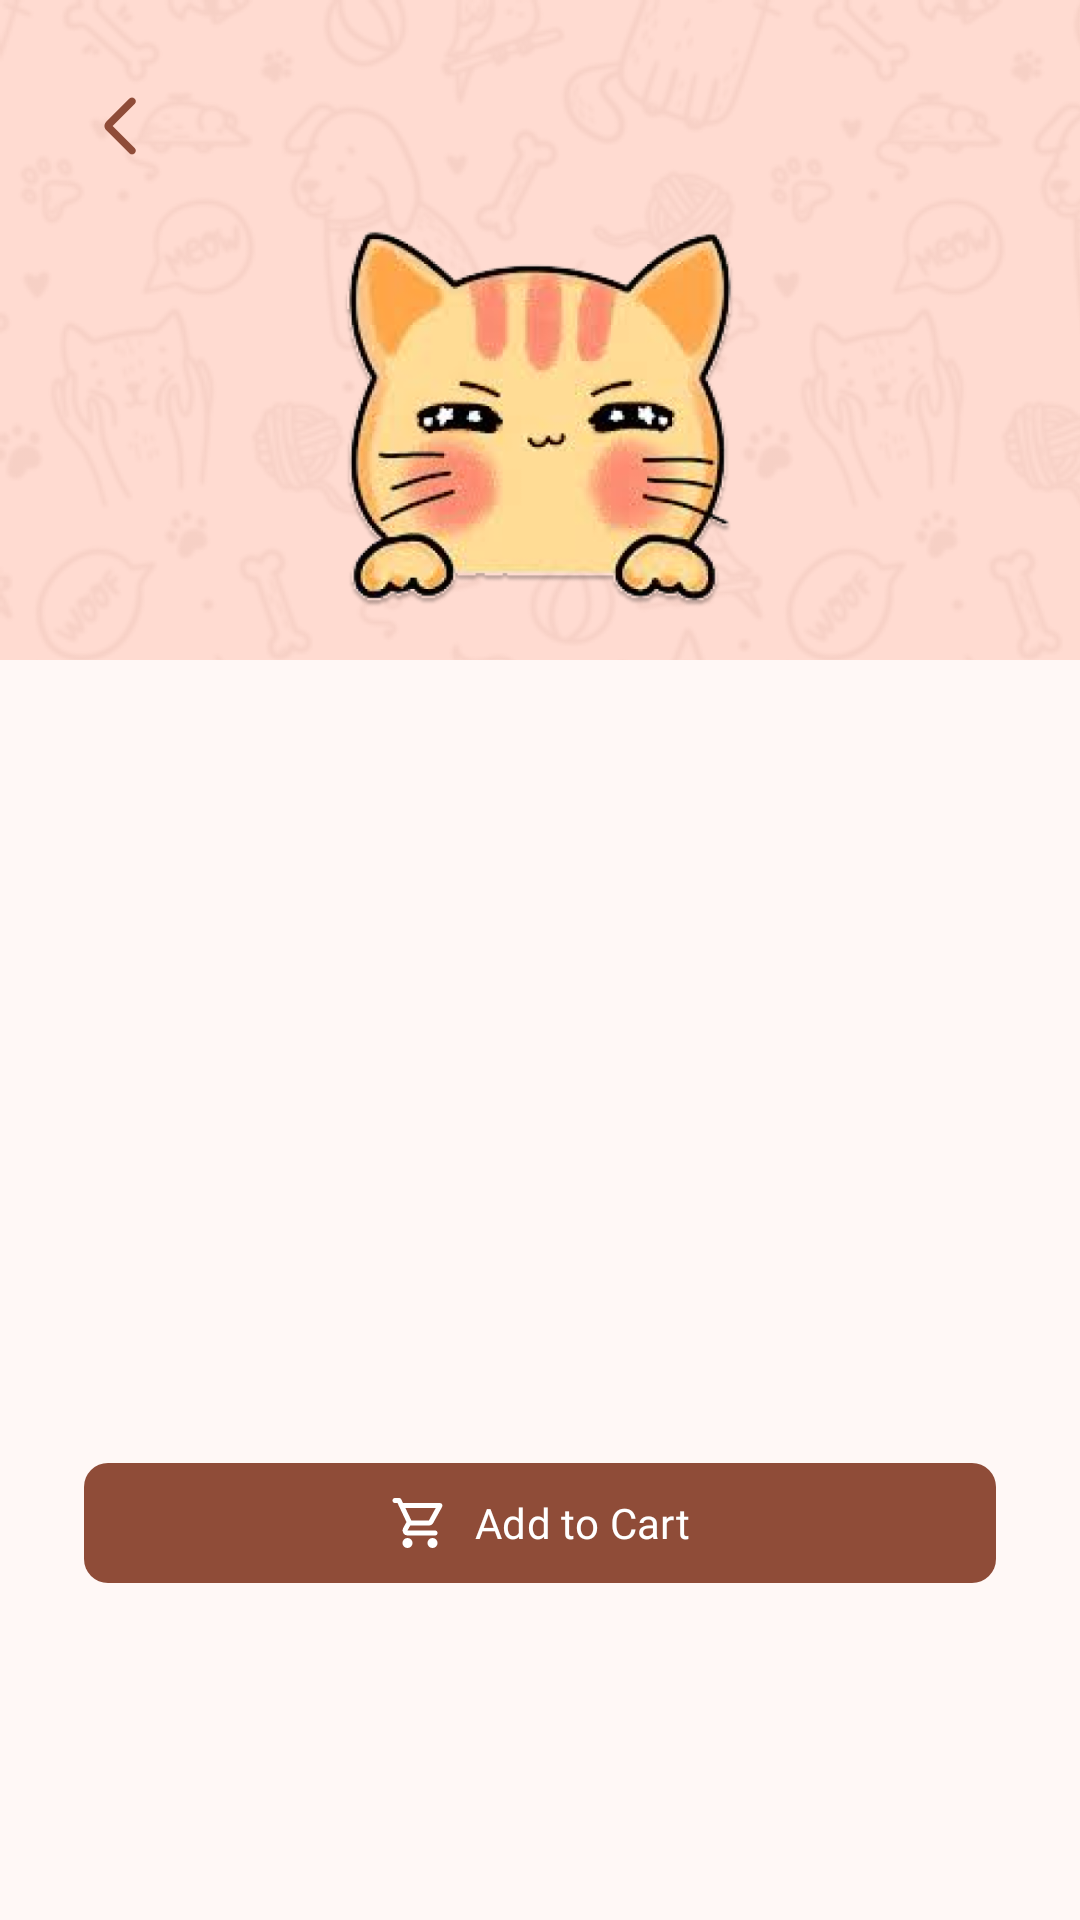

Icons on this 1080*1920 Android screen, each with its box as (x1, y1, x2, y2):
back: (104, 97, 136, 155)
